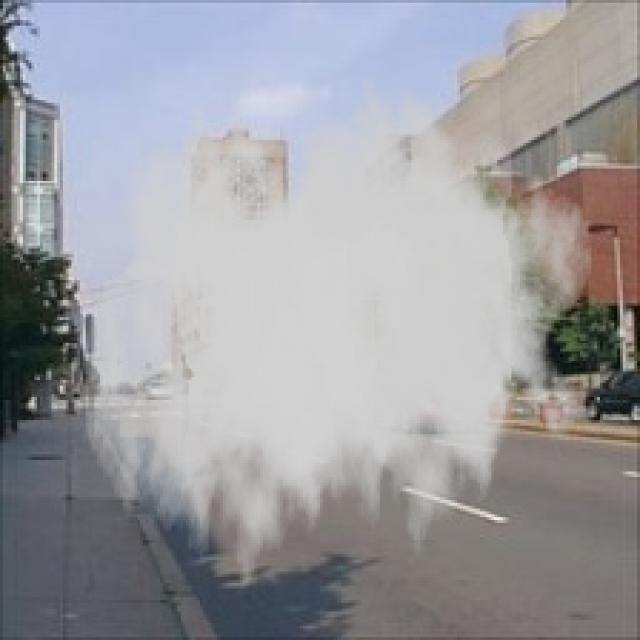smoke: (80, 63, 594, 608)
